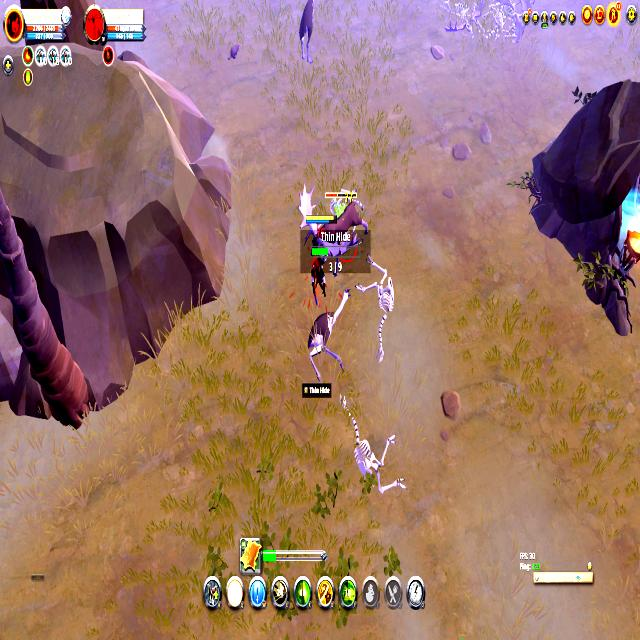mob: (304, 280, 353, 380)
ore: (311, 182, 368, 260), (296, 0, 316, 73)
red: (304, 211, 333, 300)
